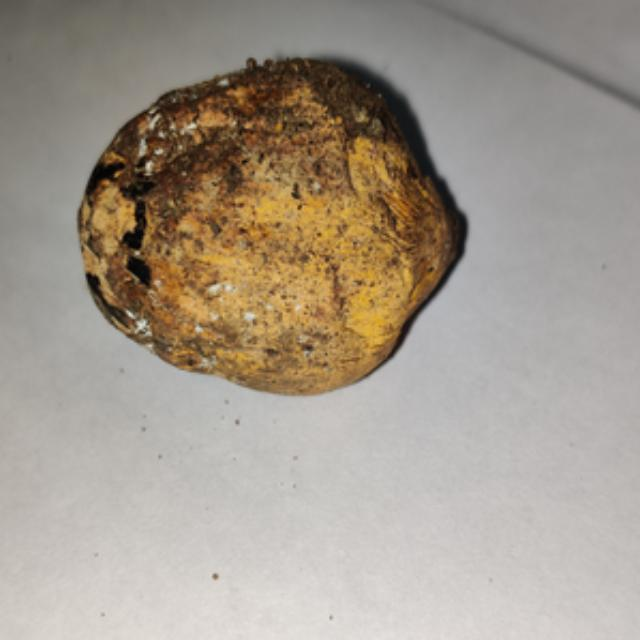damaged: (79, 58, 456, 392)
